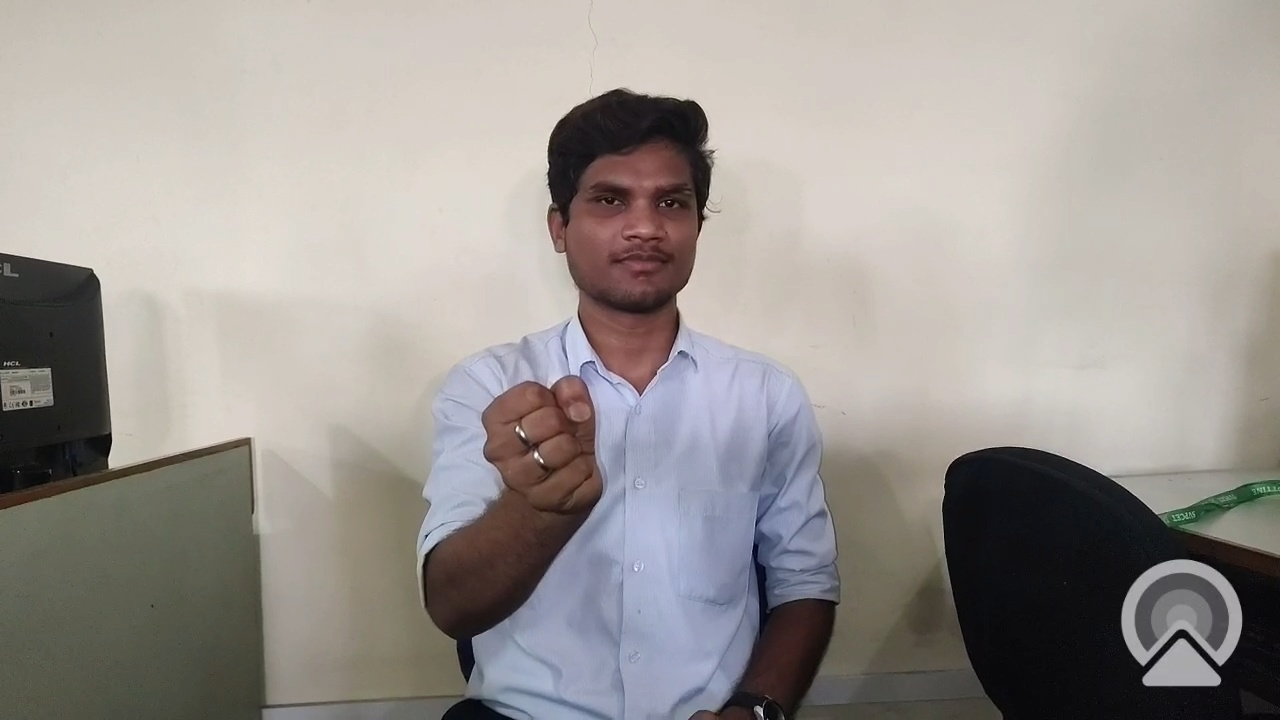Yes: (448, 353, 644, 569)
